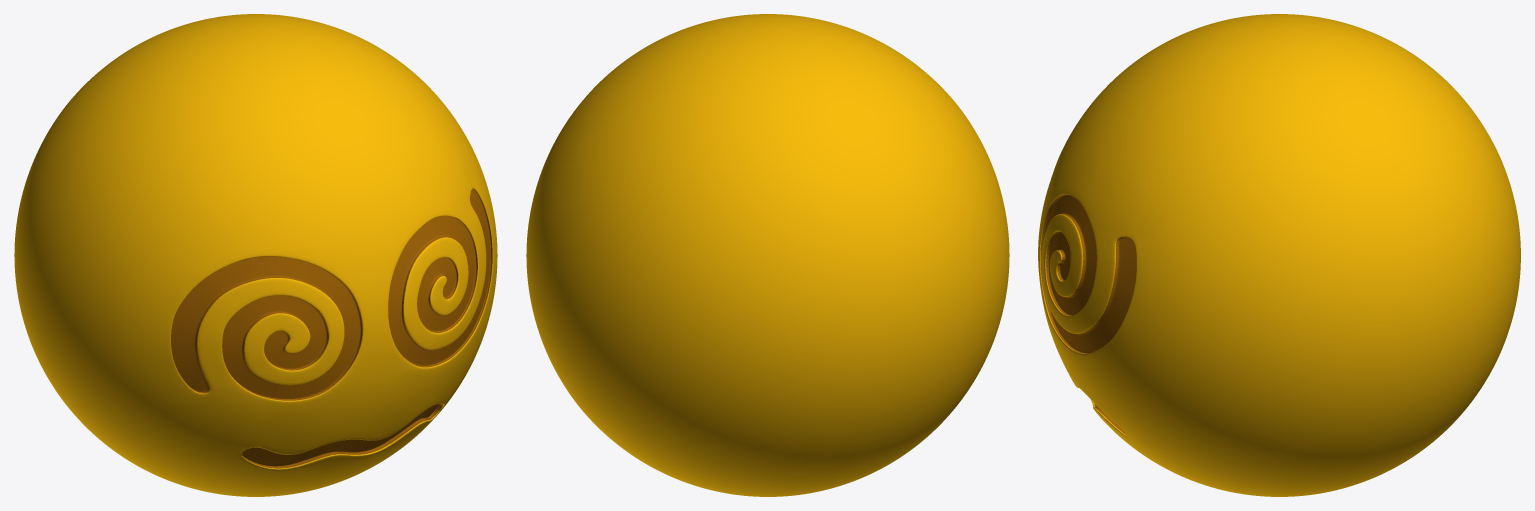
File: spiral_emoji.glb
3 renders of one model, left to right at view 1: azimuth 30°, elevation 25°; view 2: azimuth 150°, elevation 25°; view 3: azimuth 270°, elevation 25°, orthographic.
Parts seen in each view (by area): view 1: Apple Face with Spiral Eyes; view 2: Apple Face with Spiral Eyes; view 3: Apple Face with Spiral Eyes.
Boxes of the visible parts, left/top/right/bottom form: Apple Face with Spiral Eyes: left=14, top=14, right=497, bottom=496; Apple Face with Spiral Eyes: left=526, top=14, right=1009, bottom=496; Apple Face with Spiral Eyes: left=1038, top=14, right=1520, bottom=496.
Bounding box in the file's own units: 0.025 × 0.025 × 0.025.
